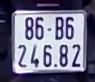2: (71, 42, 82, 69), (16, 44, 28, 68)
4: (30, 43, 41, 68)
6: (41, 43, 53, 68), (34, 16, 45, 41), (65, 16, 76, 41)
8: (57, 43, 69, 68), (23, 14, 34, 41)
B: (54, 15, 65, 41)
